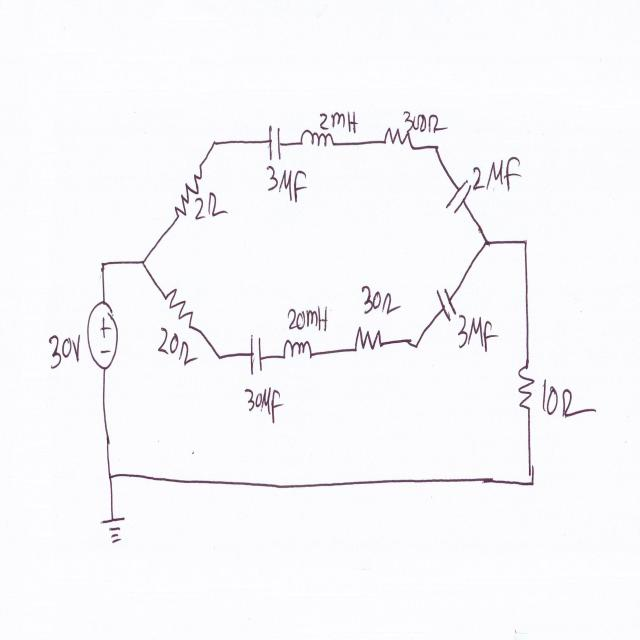capacitor: (444, 175, 473, 225), (431, 282, 460, 330), (261, 120, 287, 164), (246, 326, 266, 382)
ground: (99, 509, 130, 552)
inductor: (279, 331, 319, 374), (294, 124, 338, 161)
resistor: (167, 160, 205, 220), (512, 352, 539, 419), (350, 316, 388, 362), (160, 284, 195, 331), (382, 125, 414, 160)
voltage_source: (83, 296, 122, 377)
